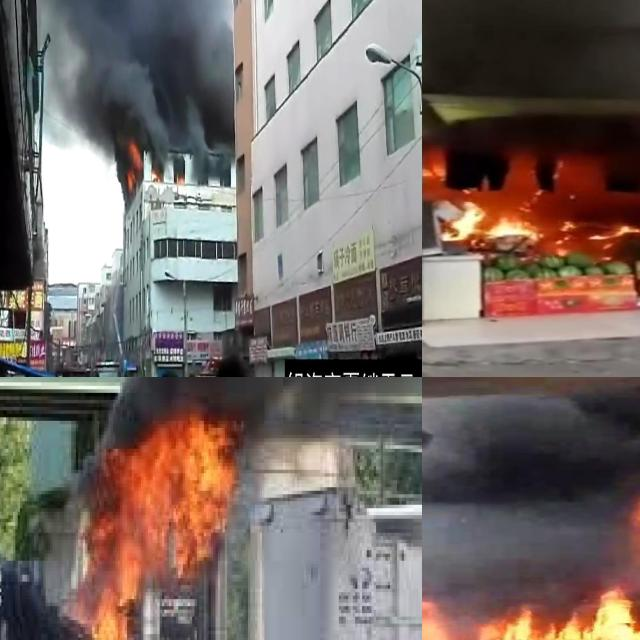fire: (66, 413, 245, 640), (422, 152, 640, 257), (422, 590, 640, 640), (125, 139, 142, 190)
smoke: (422, 405, 627, 606), (422, 0, 640, 149), (42, 0, 228, 134)
